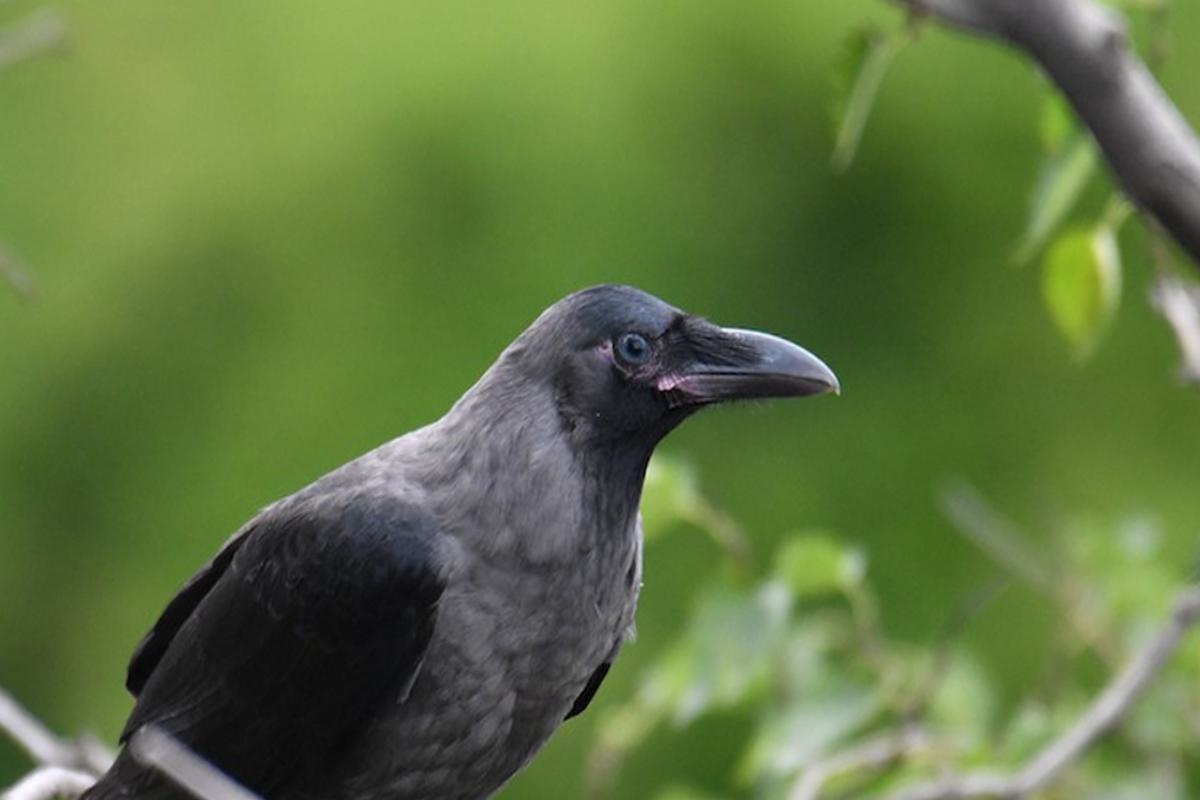crow: (90, 276, 858, 800)
